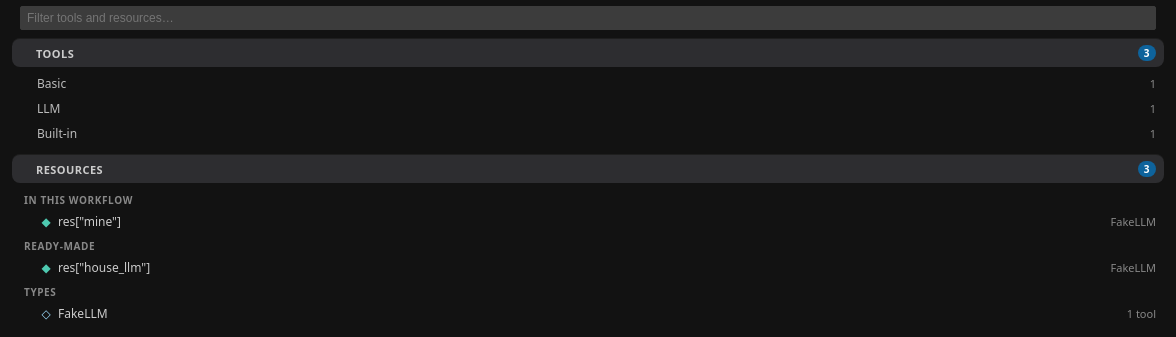
TEST-ENV-04 · the explorer lists the environment (REQ-ENV-004) › narrows tools and resources with one filter
Expected: the text "Basic" is shown, x1=37 y1=75 x2=66 y2=92
In the field labelled "Filter tools and resources": (588, 18) x1=20 y1=6 x2=1156 y2=30, type "model"
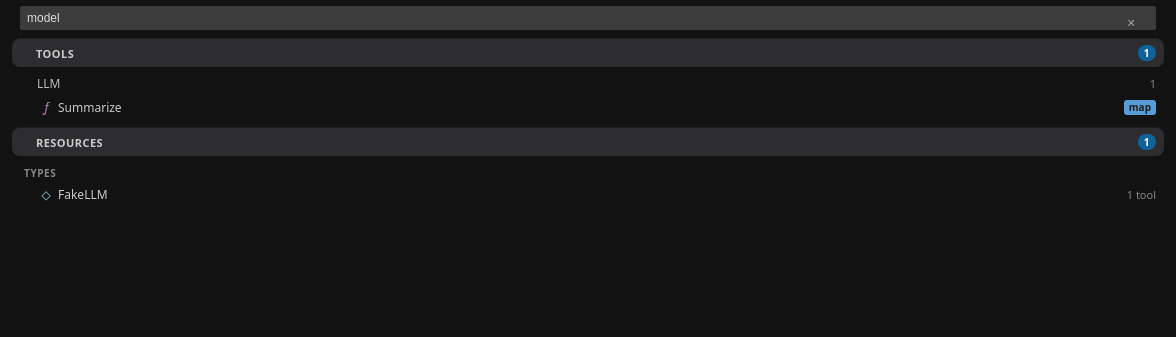
Expected: the button "◇ FakeLLM 1 tool" is shown, x1=12 y1=183 x2=1164 y2=206
Expected: the text "Summarize" is shown, x1=58 y1=99 x2=122 y2=116
Replace the text in the field named "Filter tools and resources" with "zzz": (588, 18) x1=20 y1=6 x2=1156 y2=30
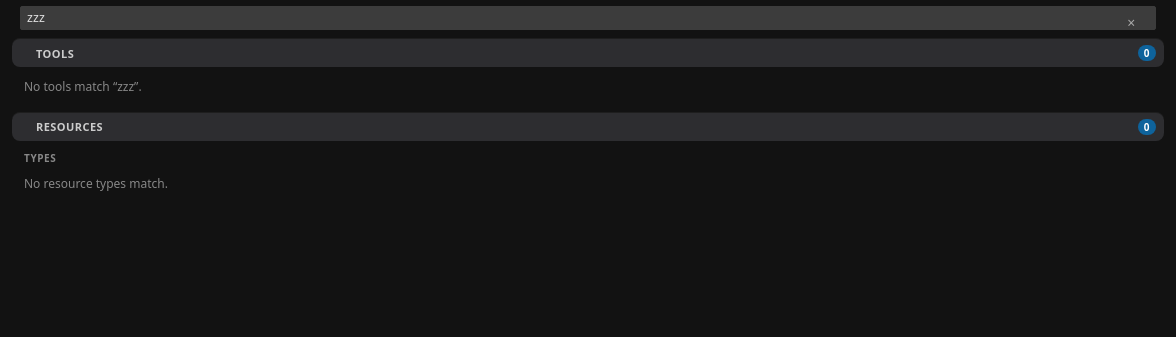
Expected: the text "No tools match “zzz”." is shown, x1=24 y1=78 x2=142 y2=95
